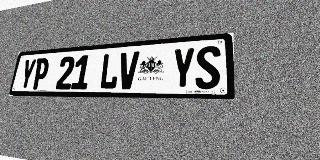1: (71, 55, 91, 89)
2: (55, 56, 76, 89)
L: (99, 53, 120, 89)
P: (31, 58, 50, 89)
S: (195, 45, 220, 89)
V: (117, 51, 139, 89)
Y: (171, 47, 195, 89), (18, 59, 37, 89)
